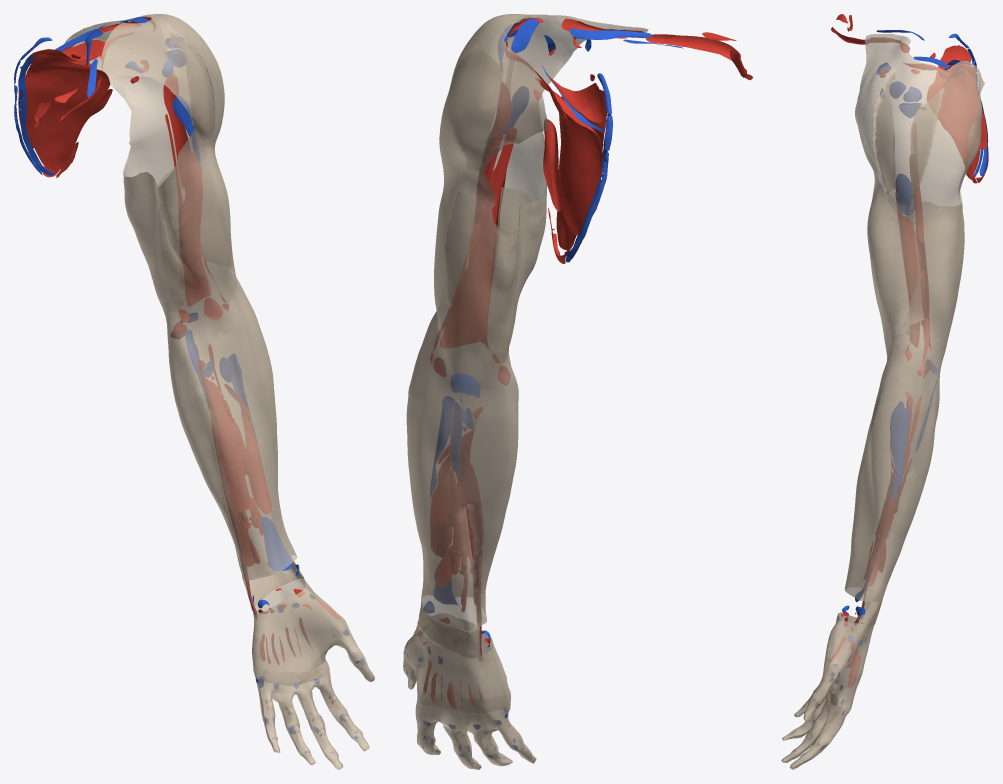
File: muscular.upper_limb_left.glb
3 views of the same model, side by side, from view 1: azimuth 30°, elevation 25°; view 2: azimuth 150°, elevation 25°; view 3: azimuth 270°, elevation 25° (orthographic). The views are drawn at different scales.
Parts seen in each view (by area): view 1: left_antebrachial_fascia, left_brachial_fascia, left_deltoid_fascia, left_palmar_aponeurosis, left_dorsal_fascia_of_hand, left_subscapularis_muscle_origin_scapula, left_brachialis_muscle_origin_humerus, left_ulnar_head_of_flexor_carpi_ulnaris_origin_ulna, left_medial_intermuscular_septum_of_arm, left_lateral_intermuscular_septum_of_arm, left_flexor_pollicis_longus_origin_radius, left_extensor_retinaculum_of_wrist (+6 smaller); view 2: left_antebrachial_fascia, left_brachial_fascia, left_deltoid_fascia, left_dorsal_fascia_of_hand, left_palmar_aponeurosis, left_medial_head_of_triceps_brachii_origin_humerus, left_medial_intermuscular_septum_of_arm, left_infraspinatus_muscle_origin_scapula, left_ulnar_head_of_extensor_carpi_ulnaris, left_lateral_intermuscular_septum_of_arm, left_lateral_head_of_triceps_brachii_origin_humerus, left_extensor_retinaculum_of_wrist (+14 smaller); view 3: left_deltoid_fascia, left_antebrachial_fascia, left_brachial_fascia, left_dorsal_fascia_of_hand, left_palmar_aponeurosis, left_infraspinatus_muscle_origin_scapula, left_brachialis_muscle_origin_humerus, left_supinator_insertion_radius, left_subscapularis_muscle_origin_scapula, left_deltoid_muscle_insertion_humerus, left_lateral_intermuscular_septum_of_arm, left_extensor_retinaculum_of_wrist (+3 smaller).
Part boxes in pixels (x1,y1,x2,y2): left_antebrachial_fascia: [162, 271, 296, 580]; left_brachial_fascia: [120, 94, 236, 315]; left_deltoid_fascia: [64, 14, 224, 160]; left_palmar_aponeurosis: [252, 585, 374, 769]; left_dorsal_fascia_of_hand: [252, 578, 374, 769]; left_subscapularis_muscle_origin_scapula: [26, 54, 110, 170]; left_brachialis_muscle_origin_humerus: [178, 152, 210, 306]; left_ulnar_head_of_flexor_carpi_ulnaris_origin_ulna: [197, 360, 250, 511]; left_medial_intermuscular_septum_of_arm: [157, 167, 184, 311]; left_lateral_intermuscular_septum_of_arm: [201, 168, 232, 267]; left_flexor_pollicis_longus_origin_radius: [241, 411, 271, 514]; left_extensor_retinaculum_of_wrist: [242, 555, 304, 610]; left_antebrachial_fascia: [406, 304, 518, 631]; left_brachial_fascia: [434, 101, 547, 367]; left_deltoid_fascia: [439, 14, 648, 183]; left_dorsal_fascia_of_hand: [403, 616, 535, 769]; left_palmar_aponeurosis: [408, 613, 536, 766]; left_medial_head_of_triceps_brachii_origin_humerus: [440, 127, 516, 348]; left_medial_intermuscular_septum_of_arm: [487, 187, 533, 349]; left_infraspinatus_muscle_origin_scapula: [536, 78, 603, 235]; left_ulnar_head_of_extensor_carpi_ulnaris: [460, 452, 483, 661]; left_lateral_intermuscular_septum_of_arm: [446, 190, 475, 306]; left_lateral_head_of_triceps_brachii_origin_humerus: [474, 82, 511, 223]; left_extensor_retinaculum_of_wrist: [417, 602, 480, 658]; left_deltoid_fascia: [855, 33, 984, 225]; left_antebrachial_fascia: [844, 334, 946, 601]; left_brachial_fascia: [867, 151, 969, 351]; left_dorsal_fascia_of_hand: [782, 615, 874, 769]; left_palmar_aponeurosis: [781, 612, 848, 768]; left_infraspinatus_muscle_origin_scapula: [941, 69, 987, 149]; left_brachialis_muscle_origin_humerus: [895, 193, 920, 347]; left_supinator_insertion_radius: [890, 407, 910, 486]; left_subscapularis_muscle_origin_scapula: [927, 56, 980, 173]; left_deltoid_muscle_insertion_humerus: [896, 174, 914, 215]; left_lateral_intermuscular_septum_of_arm: [903, 237, 923, 327]; left_extensor_retinaculum_of_wrist: [860, 591, 882, 624].
Size of the model in its own units: 0.3197 by 0.7022 by 0.2005.
